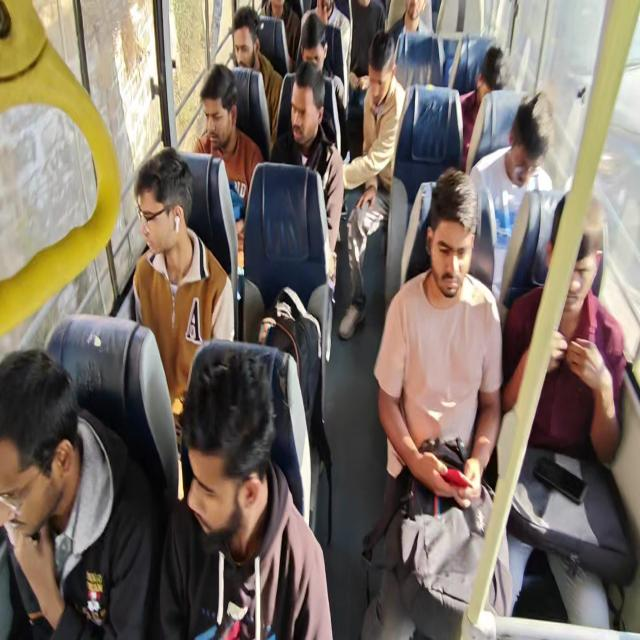person: (177, 341, 300, 510), (0, 353, 83, 500), (115, 153, 211, 262), (544, 196, 628, 319), (426, 178, 482, 275), (510, 86, 555, 190), (472, 52, 524, 119), (281, 71, 322, 144), (363, 37, 398, 104), (193, 70, 231, 126), (293, 6, 327, 62), (227, 9, 253, 53), (402, 0, 427, 27)
